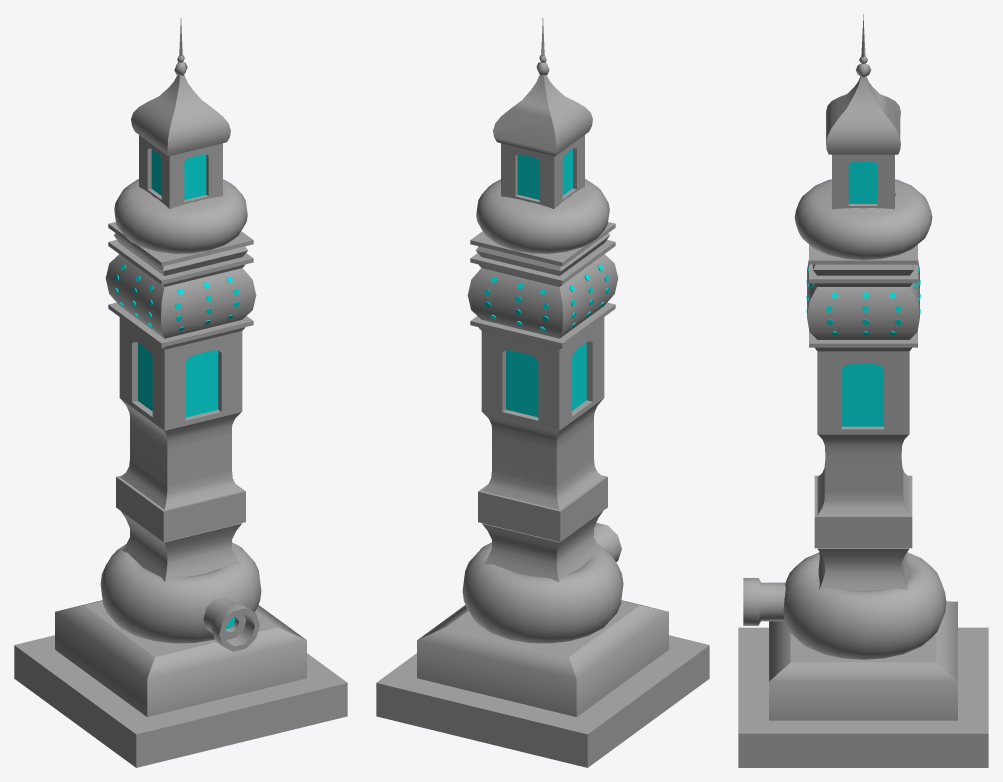
The model's file is Tower_asset_01.fbx.
3 renders of one model, left to right at view 1: azimuth 30°, elevation 25°; view 2: azimuth 150°, elevation 25°; view 3: azimuth 270°, elevation 25°, orthographic. The views are drawn at different scales.
Visible parts, largest first — view 1: pCube1, pCube6, pTorus1, pasted__pasted__pCube2 (×2), pasted__pCube2, pCube7, pasted__pTorus1, pasted__pCube6, pCube2, pCylinder1, pasted__pasted__pasted__pCube7 (×2), polySurface17 (+2 smaller); view 2: pCube1, pTorus1, pCube6, pasted__pasted__pCube2 (×2), pasted__pCube2, pCube7, pasted__pTorus1, pasted__pCube6, pCube2, pasted__pasted__pasted__pCube7 (×2), polySurface17, pasted__pasted__pCube7 (+2 smaller); view 3: pCube1, pTorus1, pasted__pasted__pCube2 (×2), pCube6, pasted__pTorus1, pasted__pCube2, pCube7, pCube2, pasted__pCube6, pCylinder1, pasted__pasted__pasted__pCube7 (×2), pasted__pasted__pCube7 (+3 smaller).
Boxes of the visible parts, x1,y1,x2,y2 form: pCube1: (14,600,347,767); pCube6: (119,317,242,430); pTorus1: (100,542,261,643); pasted__pasted__pCube2 (×2): (121,75,241,582); pasted__pCube2: (120,399,241,509); pCube7: (105,254,256,338); pasted__pTorus1: (114,179,247,253); pasted__pCube6: (139,135,222,208); pCube2: (116,475,245,542); pCylinder1: (203,597,259,651); pasted__pasted__pasted__pCube7 (×2): (108,222,253,275); polySurface17: (108,302,253,347); pCube1: (376,600,709,767); pTorus1: (462,542,623,643); pCube6: (481,317,604,430); pasted__pasted__pCube2 (×2): (482,75,602,582); pasted__pCube2: (482,399,603,509); pCube7: (467,254,618,338); pasted__pTorus1: (476,179,609,253); pasted__pCube6: (501,135,584,208); pCube2: (478,475,607,542); pasted__pasted__pasted__pCube7 (×2): (470,222,615,275); polySurface17: (470,302,615,347); pasted__pasted__pCube7: (470,240,615,284); pCube1: (738,601,988,767); pTorus1: (783,552,946,659); pasted__pasted__pCube2 (×2): (817,76,909,590); pCube6: (817,351,909,434); pasted__pTorus1: (794,179,932,260); pasted__pCube2: (817,434,909,515); pCube7: (807,260,919,339); pCube2: (814,475,912,548); pasted__pCube6: (832,154,894,209); pCylinder1: (743,578,785,625); pasted__pasted__pasted__pCube7 (×2): (809,244,917,275); pasted__pasted__pCube7: (809,264,917,283).
Size of the model in its own units: 2.34 by 7.22 by 2.34.
